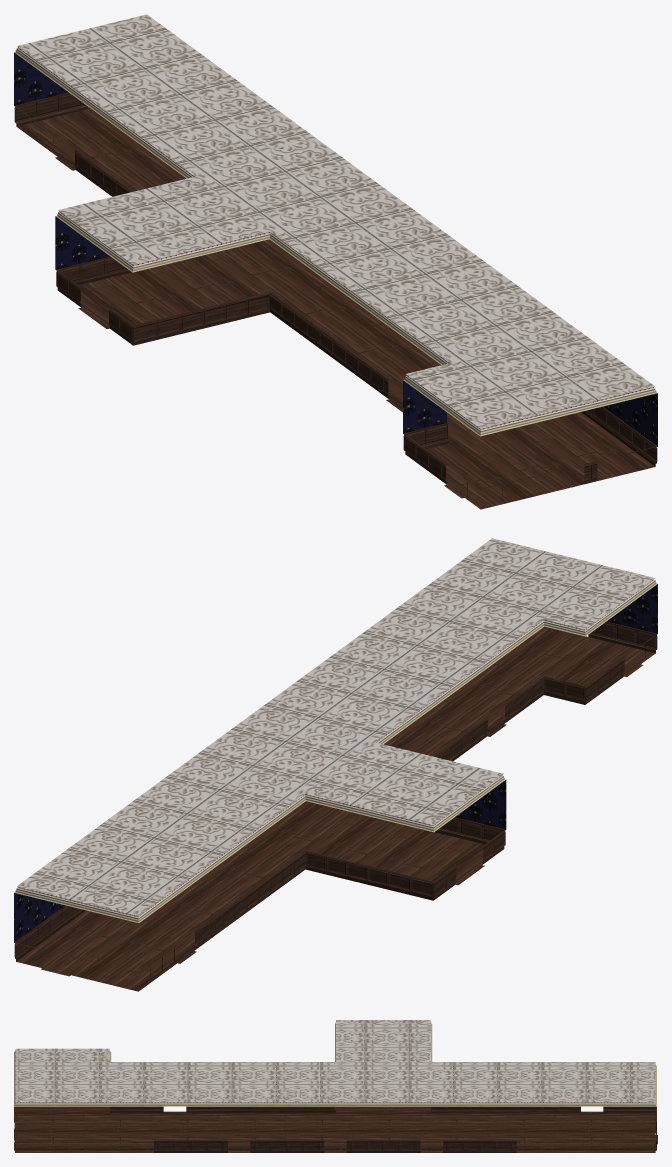
The model's file is Hallway_A_FINAL.fbx.
3 views of the same model, one above another, from view 1: azimuth 30°, elevation 25°; view 2: azimuth 150°, elevation 25°; view 3: azimuth 270°, elevation 25° (orthographic). The views are drawn at different scales.
Parts seen in each view (by area): view 1: Hallway_A; view 2: Hallway_A; view 3: Hallway_A.
Boxes of the visible parts, x1,y1,x2,y2 form: Hallway_A: (14,14,657,509); Hallway_A: (14,538,657,991); Hallway_A: (14,1020,657,1152).
Size of the model in its own units: 1224 by 346 by 3983.
